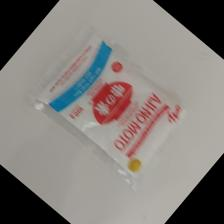Ajinomoto: (33, 29, 193, 186)
